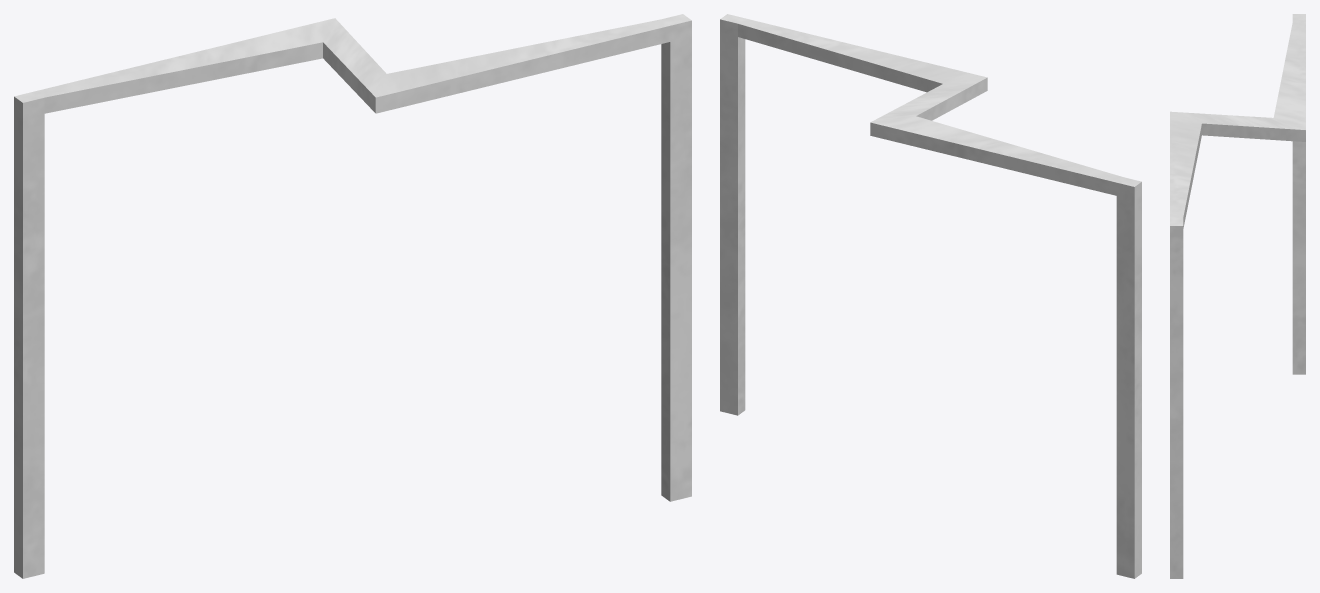
3 views of the same model, side by side, from view 1: azimuth 30°, elevation 25°; view 2: azimuth 150°, elevation 25°; view 3: azimuth 270°, elevation 25° (orthographic). The views are drawn at different scales.
Parts seen in each view (by area): view 1: SM_PARK_LAMP; view 2: SM_PARK_LAMP; view 3: SM_PARK_LAMP.
Boxes of the visible parts, x1,y1,x2,y2 form: SM_PARK_LAMP: (14,14,691,578); SM_PARK_LAMP: (720,14,1141,578); SM_PARK_LAMP: (1170,14,1305,578).
Bounding box in the file's own units: 808 × 627 × 219.
2 materials, 1 textured.
